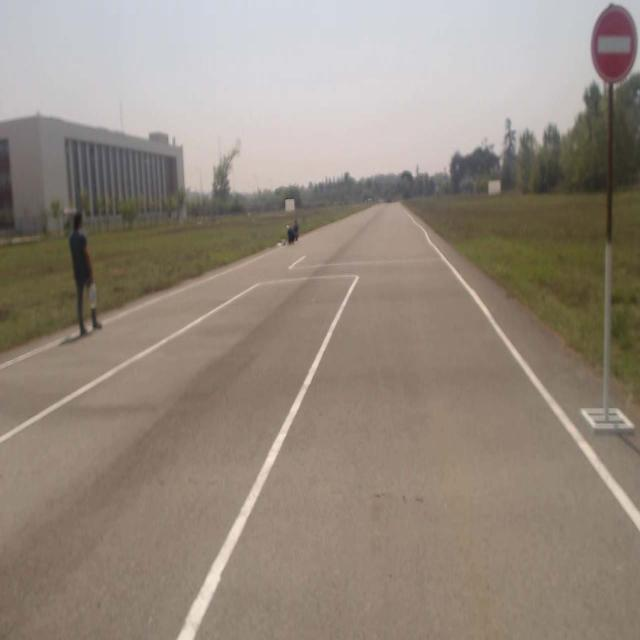girisyok: (591, 5, 638, 82)
